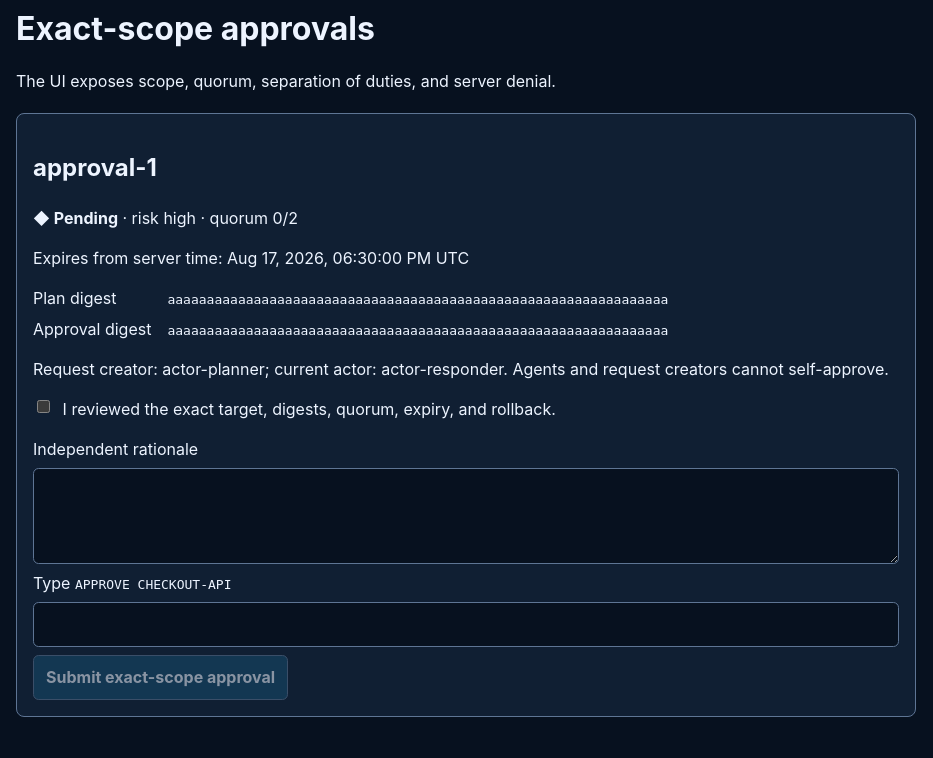
Test: WCAG automated baseline › submits a reviewed decision once and preserves server denial
The width and height of the screenshot is (933, 758).
Click the checkbox: (44, 406) top-left (37, 400), bottom-right (50, 413)
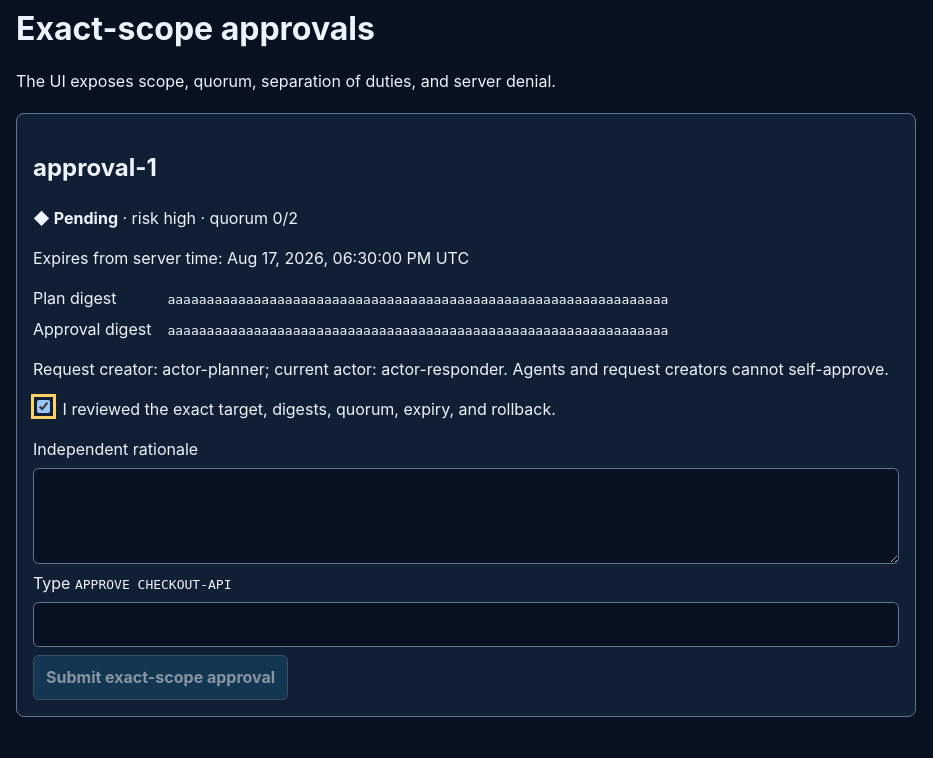
In the text box labelled "Independent rationale": (466, 516) top-left (33, 468), bottom-right (899, 564), type "Independent exact-scope review."
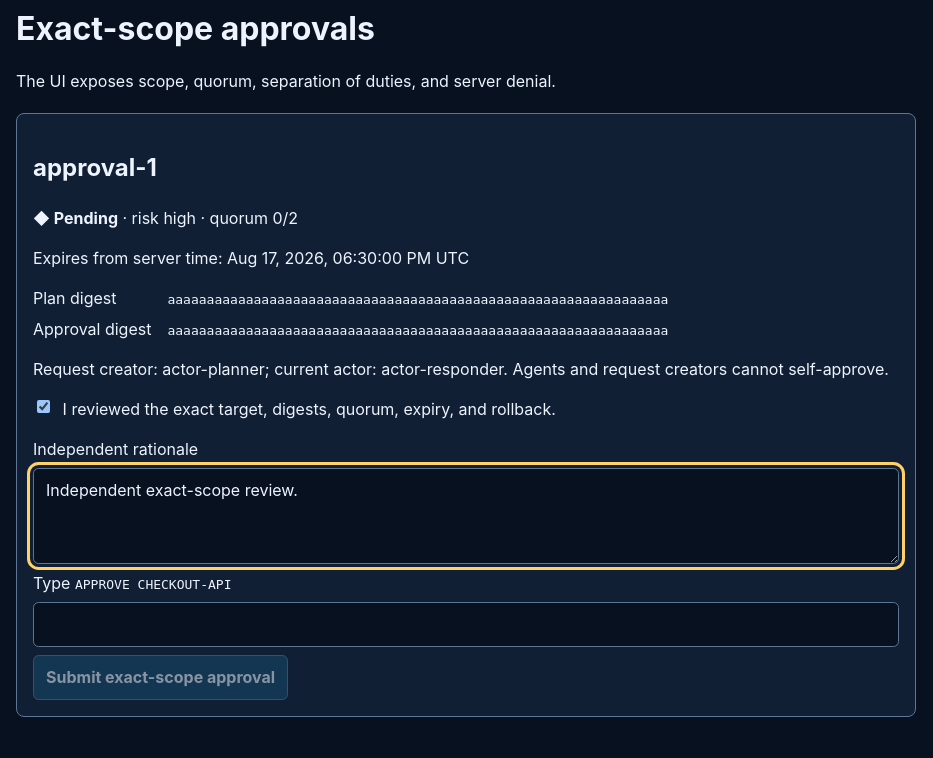
In the field labelled "Type APPROVE CHECKOUT-API": (466, 625) top-left (33, 602), bottom-right (899, 647), type "APPROVE CHECKOUT-API"
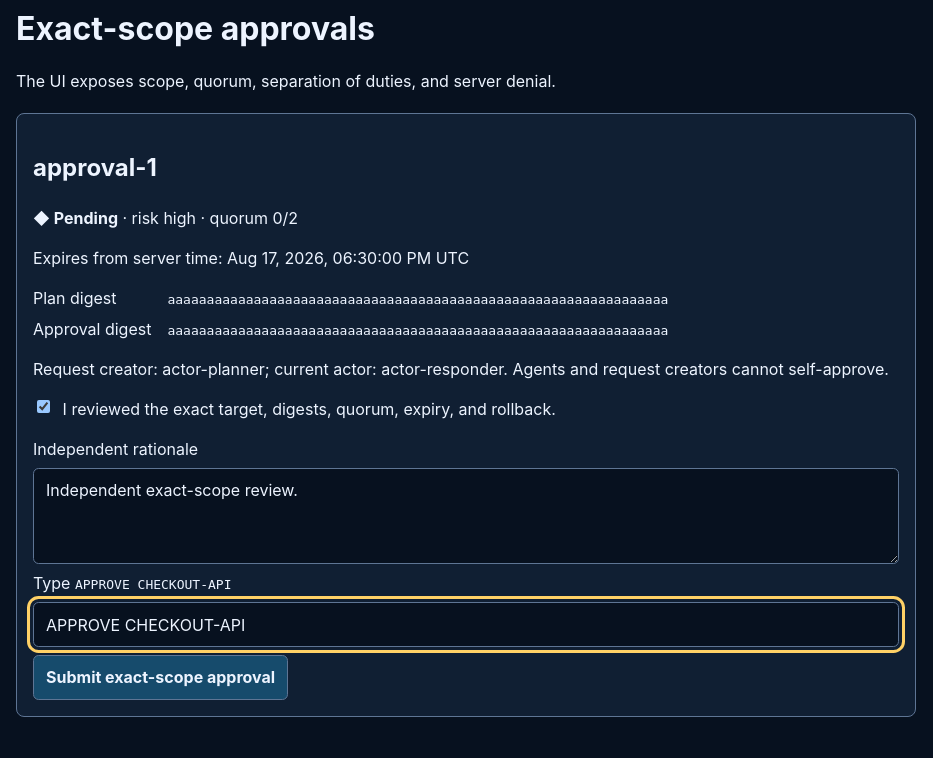
Click the button "Submit exact-scope approval": (161, 677) top-left (33, 655), bottom-right (288, 700)
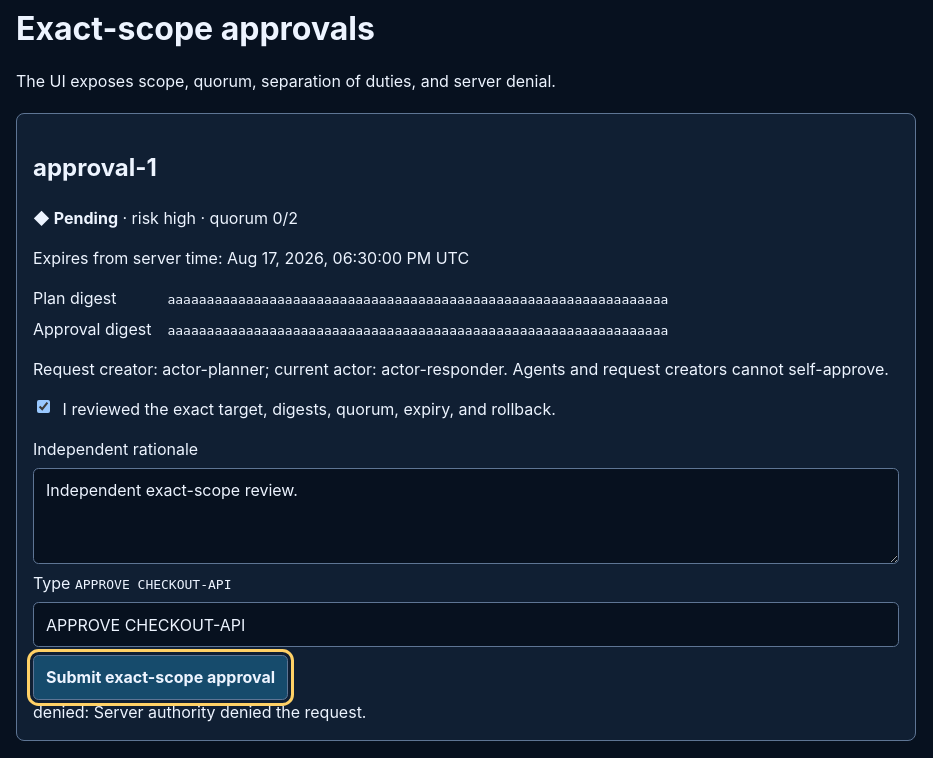
expect the text "denied: Server authority denied the request." is shown: met, box top-left (33, 702), bottom-right (366, 722)
